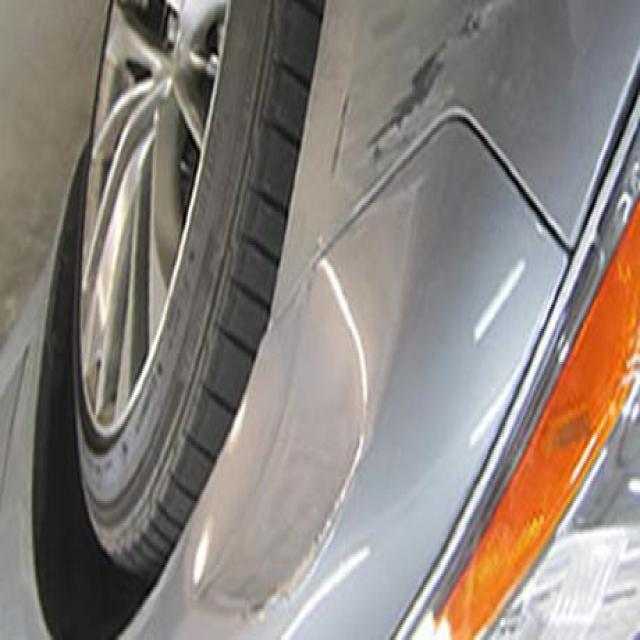scratch: (342, 2, 494, 172)
